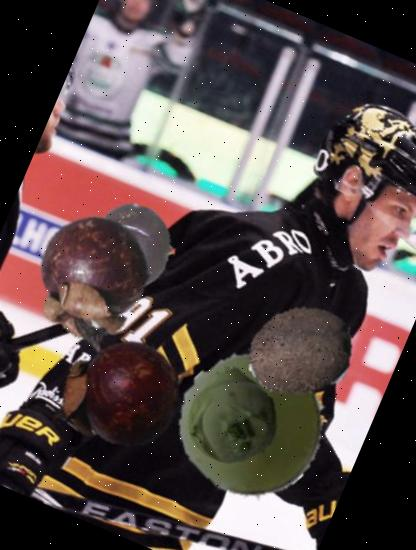Cocos: (228, 279, 372, 423)
Grape: (154, 330, 346, 522)
Kohlrabi: (165, 349, 296, 480)
Mangostan: (3, 192, 176, 366), (34, 308, 202, 476)
Passion: (75, 190, 190, 305)
